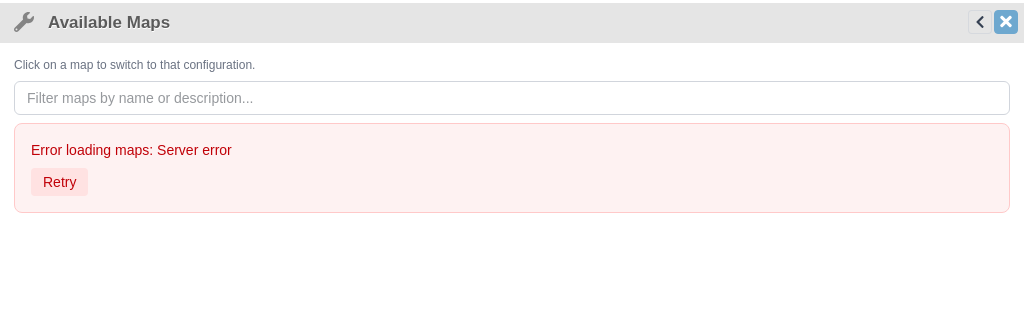
it: AvailableMapsTool › shows retry button on error and retries on click
The image size is (1024, 318).
What coordinates should you click on to do the following:
click the button "Retry"
I would click on:
 (60, 182)
Its box is left=31, top=168, right=88, bottom=196.
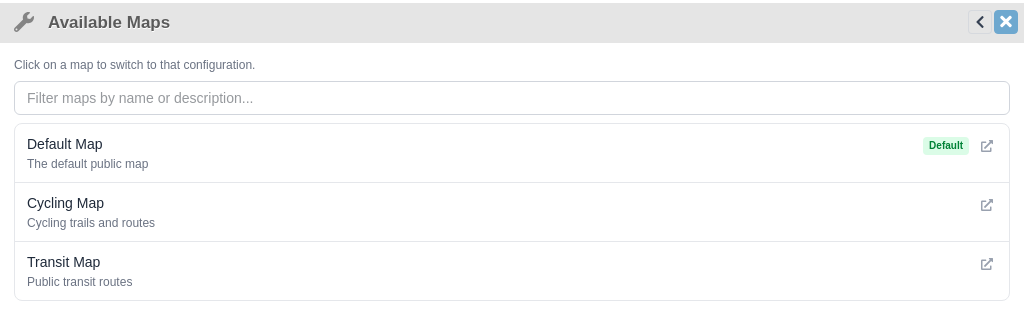
Expected: the text "Default Map" is shown, left=27, top=134, right=102, bottom=154
